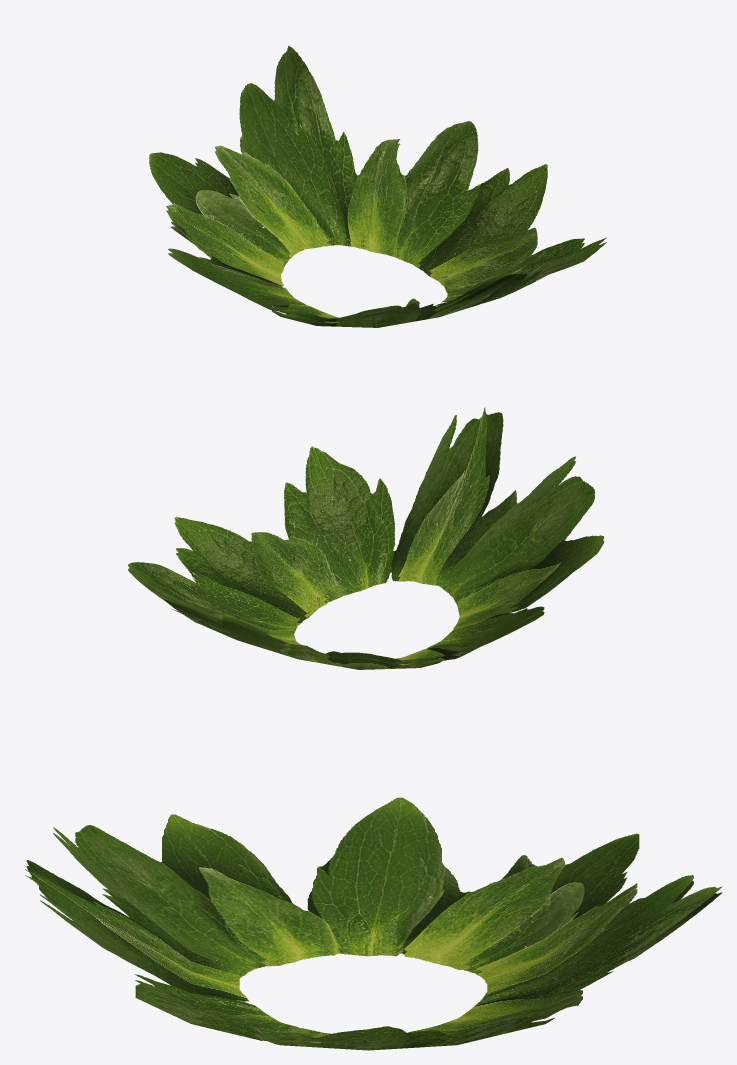
File: JordGubbeLeaf.fbx
3 views of the same model, one above another, from view 1: azimuth 30°, elevation 25°; view 2: azimuth 150°, elevation 25°; view 3: azimuth 270°, elevation 25° (orthographic). The views are drawn at different scales.
Visible parts, largest first — view 1: BerryLeaf; view 2: BerryLeaf; view 3: BerryLeaf.
Part boxes in pixels (bbox=[...]): BerryLeaf: bbox=[149, 45, 606, 327]; BerryLeaf: bbox=[128, 407, 604, 669]; BerryLeaf: bbox=[25, 797, 722, 1050].
Bounding box in the file's own units: 4.74 × 1.25 × 4.75.
Materials: 1 (1 with a texture image).
